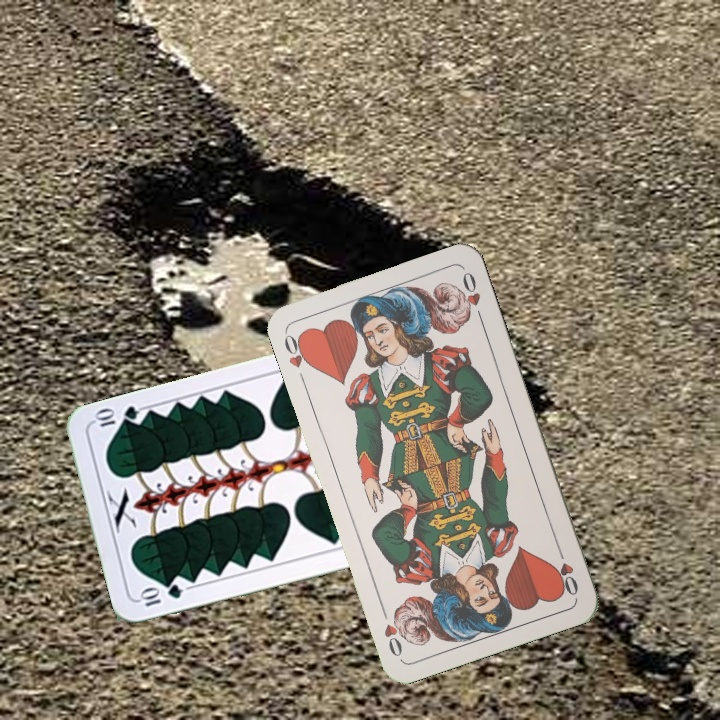G10: (135, 580, 185, 609)
HO: (552, 542, 581, 599), (280, 328, 315, 371)
